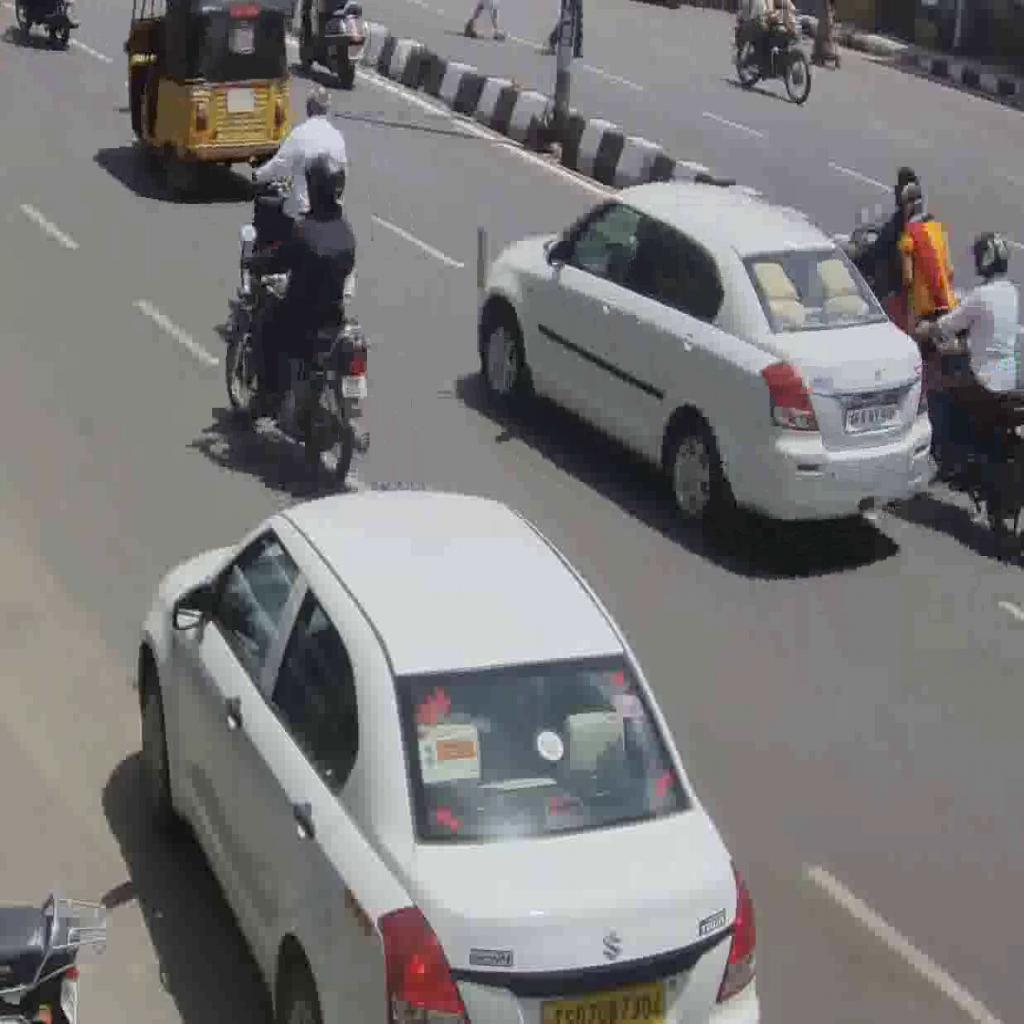helmet: (225, 241, 371, 491), (913, 308, 1024, 552), (297, 0, 368, 89)
